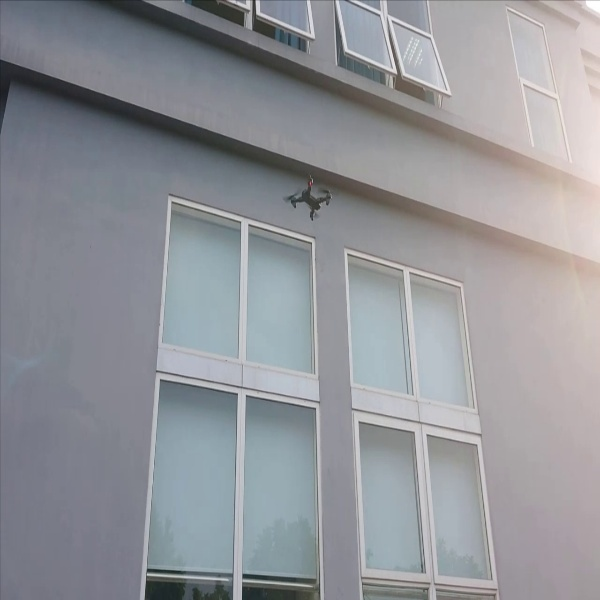drone: (277, 169, 344, 227)
